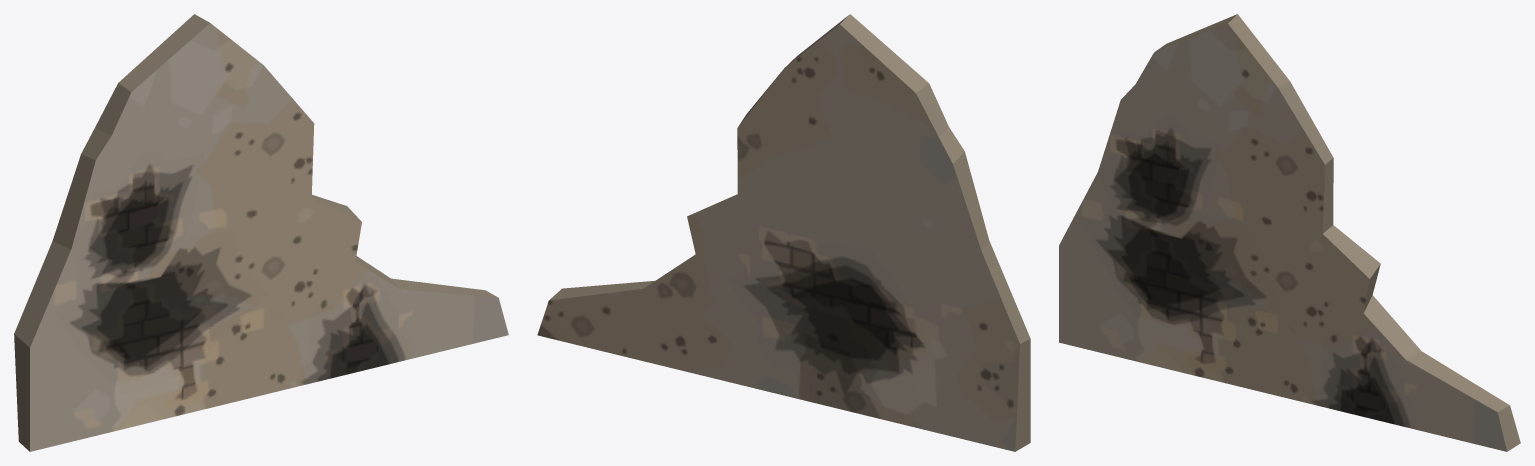
Rendered from SM_Bld_Village_04_Destroyed.glb.
3 renders of one model, left to right at view 1: azimuth 30°, elevation 25°; view 2: azimuth 150°, elevation 25°; view 3: azimuth 330°, elevation 25°, orthographic. The views are drawn at different scales.
Visible parts, largest first — view 1: SM_Bld_Village_04_Destroyed; view 2: SM_Bld_Village_04_Destroyed; view 3: SM_Bld_Village_04_Destroyed.
Part boxes in pixels (x1,y1,x2,y2): SM_Bld_Village_04_Destroyed: [14, 14, 508, 451]; SM_Bld_Village_04_Destroyed: [537, 14, 1030, 451]; SM_Bld_Village_04_Destroyed: [1059, 14, 1520, 451].
Size of the model in its own units: 5.25 by 4 by 0.25.
1 material, 1 textured.
